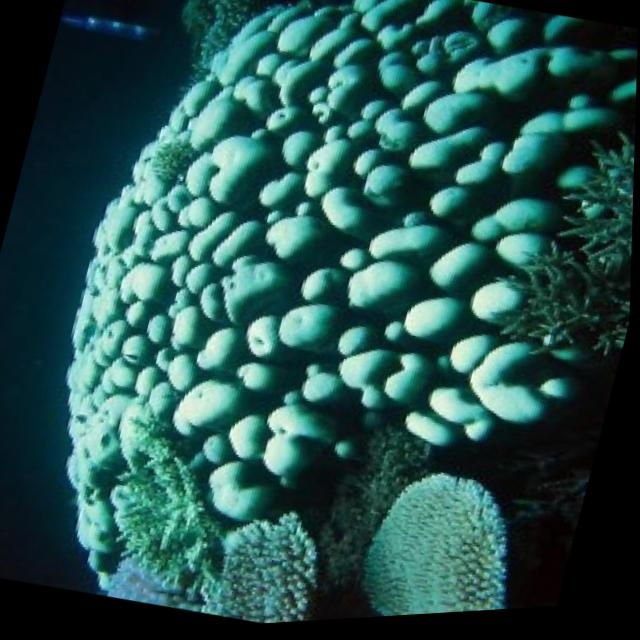Bleached Coral: (7, 0, 631, 639)
